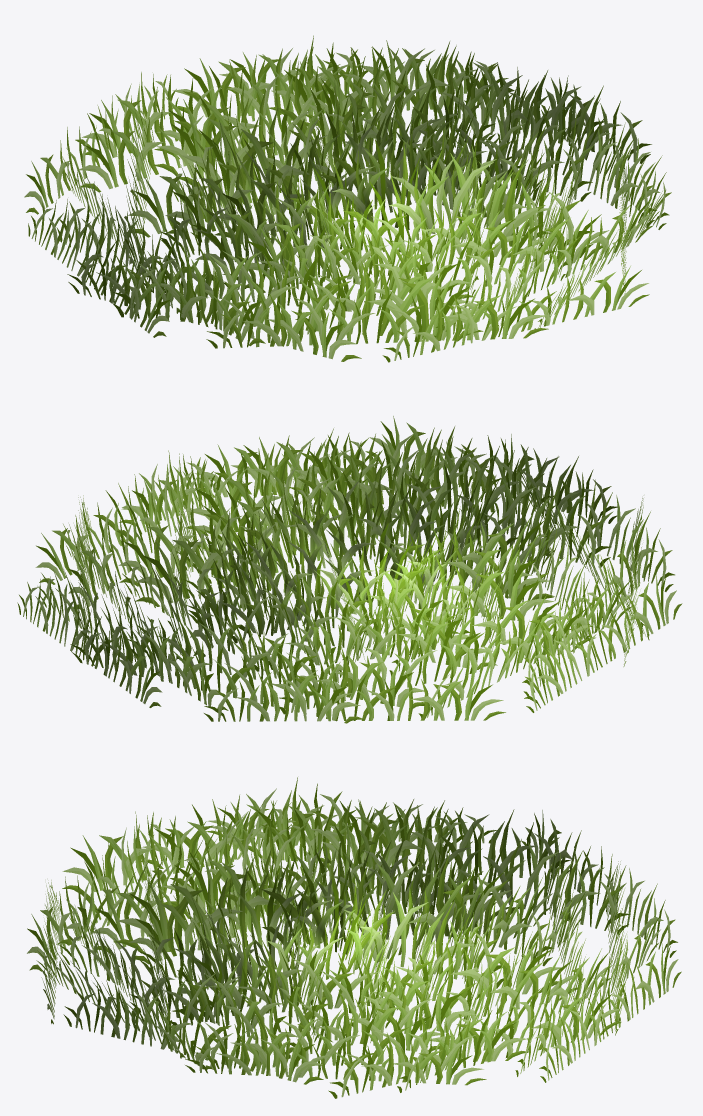
Rendered from SM_Grass_Shorts_001B.fbx.
3 views of the same model, one above another, from view 1: azimuth 30°, elevation 25°; view 2: azimuth 150°, elevation 25°; view 3: azimuth 270°, elevation 25° (orthographic). The views are drawn at different scales.
Parts seen in each view (by area): view 1: SM_Grass_Shorts_001B; view 2: SM_Grass_Shorts_001B; view 3: SM_Grass_Shorts_001B.
Boxes of the visible parts, x1,y1,x2,y2 form: SM_Grass_Shorts_001B: (24, 35, 671, 362); SM_Grass_Shorts_001B: (17, 416, 682, 723); SM_Grass_Shorts_001B: (27, 777, 681, 1098).
Bounding box in the file's own units: 97.77 × 13.77 × 98.13.
